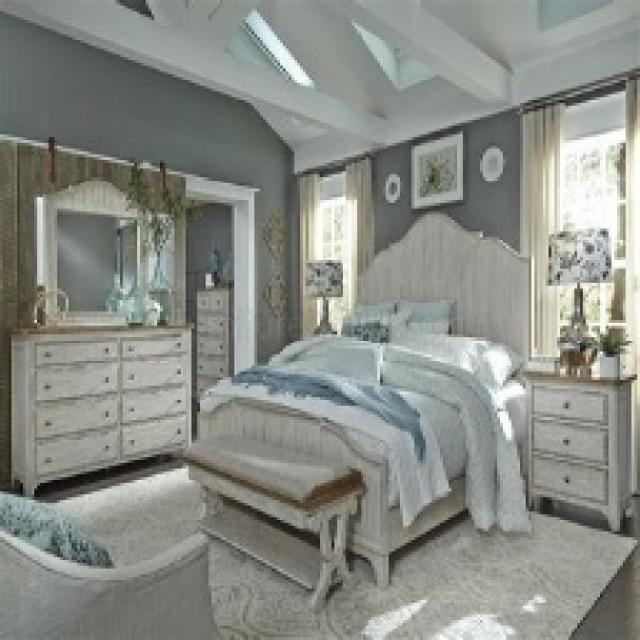Bed: (192, 208, 532, 588)
cabinet: (16, 338, 188, 460)
drawers: (532, 374, 615, 502)
